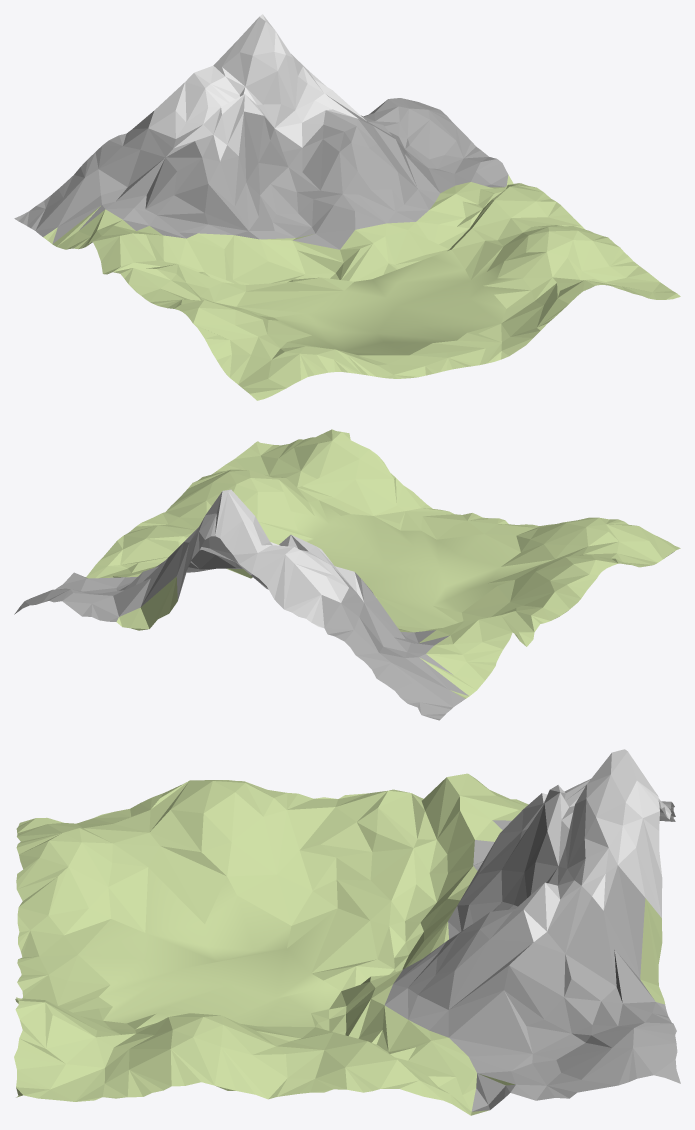
The model's file is terrain9.fbx.
3 views of the same model, one above another, from view 1: azimuth 30°, elevation 25°; view 2: azimuth 150°, elevation 25°; view 3: azimuth 270°, elevation 25° (orthographic). The views are drawn at different scales.
Visible parts, largest first — view 1: pPlane2; view 2: pPlane2; view 3: pPlane2.
Part boxes in pixels (bbox=[...]): pPlane2: bbox=[14, 14, 680, 400]; pPlane2: bbox=[14, 429, 680, 720]; pPlane2: bbox=[14, 749, 680, 1115].
Bounding box in the file's own units: 1222 × 531 × 1224.
